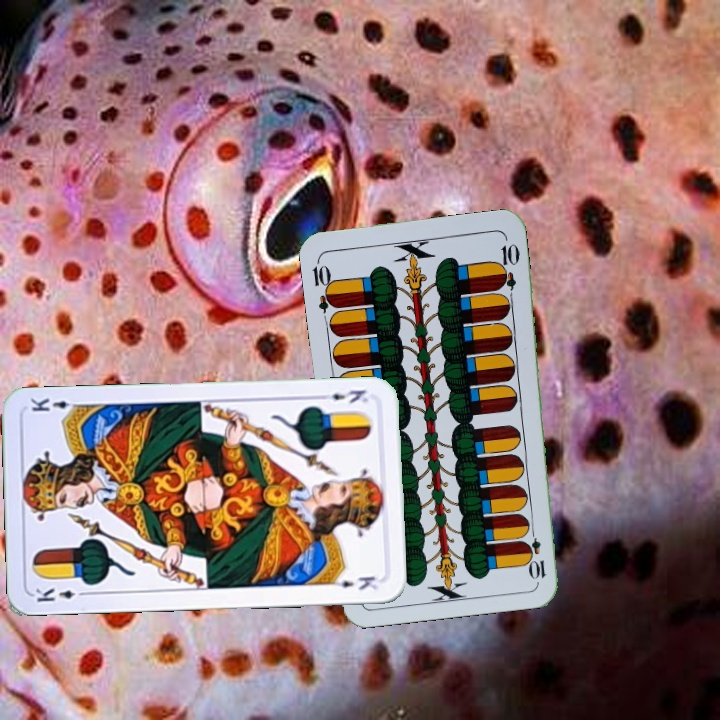E10: (308, 255, 339, 314), (525, 523, 548, 582)
EK: (31, 584, 91, 605), (315, 385, 371, 406)
